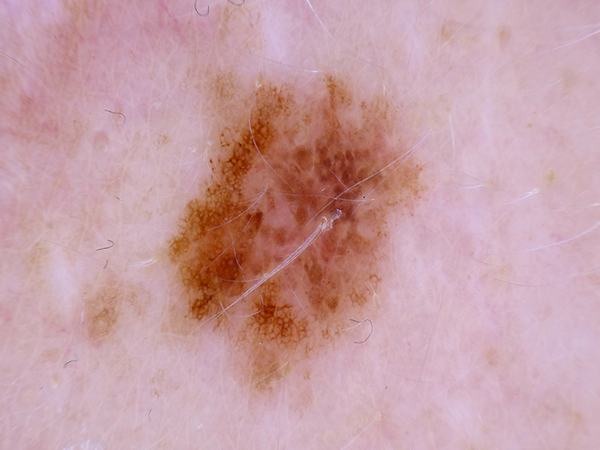Detected Lesion: (166, 72, 425, 387)
